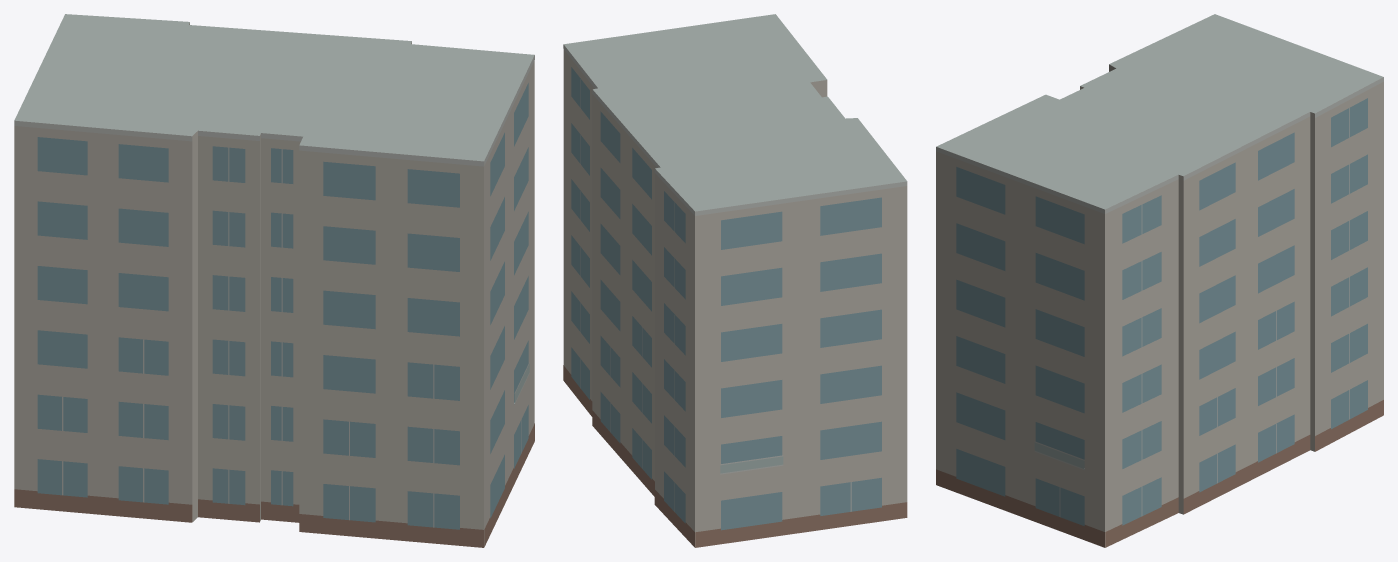
File: survey-upis-32949588.glb
3 renders of one model, left to right at view 1: azimuth 30°, elevation 25°; view 2: azimuth 150°, elevation 25°; view 3: azimuth 270°, elevation 25°, orthographic. The views are drawn at different scales.
Parts seen in each view (by area): view 1: survey-upis-32949588.tmp; view 2: survey-upis-32949588.tmp; view 3: survey-upis-32949588.tmp.
Part boxes in pixels (x1=…): survey-upis-32949588.tmp: x1=14, y1=14, x2=534, y2=547; survey-upis-32949588.tmp: x1=563, y1=14, x2=907, y2=547; survey-upis-32949588.tmp: x1=936, y1=14, x2=1383, y2=547.
Bounding box in the file's own units: 22.57 × 18.2 × 21.84.
